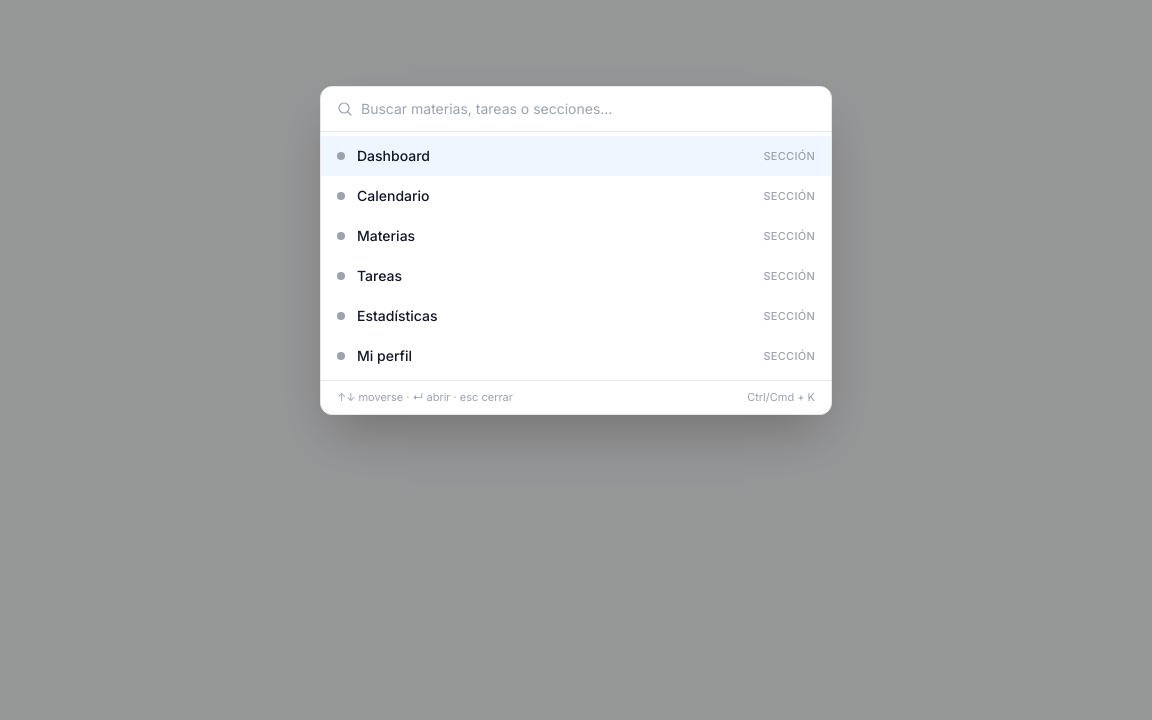
Test: CommandPalette › filtra las secciones por texto
In the field with placeholder "Buscar materias, tareas o secciones...": {"x": 588, "y": 109} [361,87,815,131], type "calen"
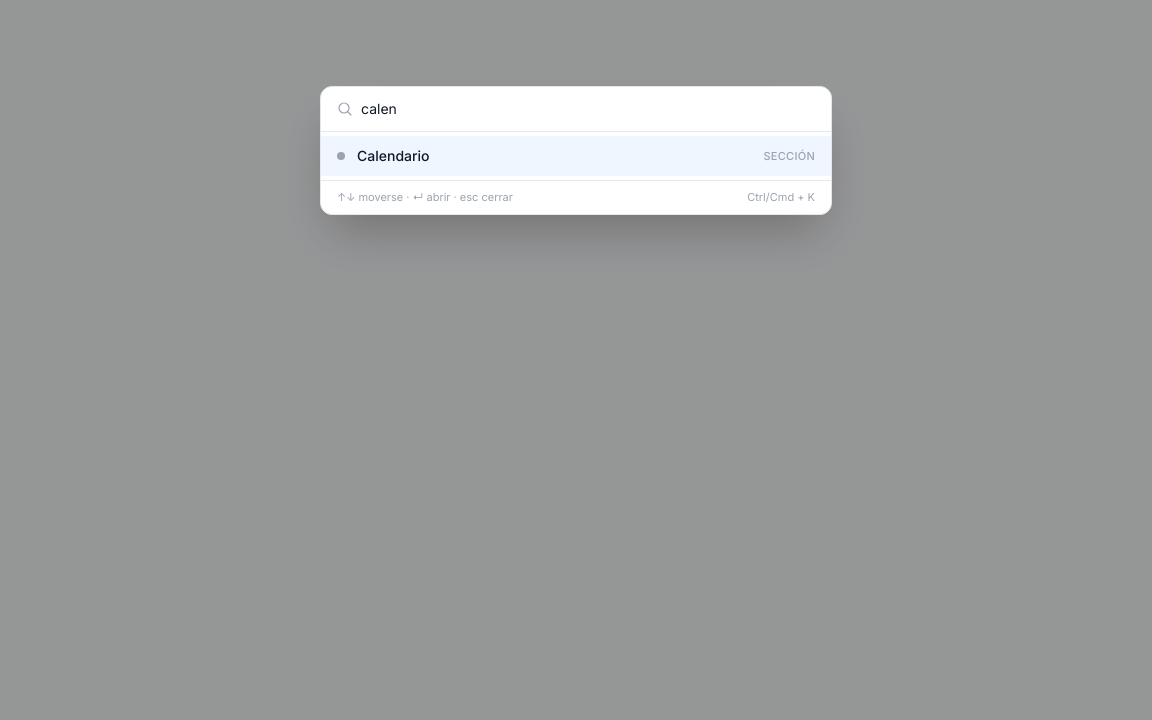
Expected: the text "Calendario" is shown, [357,147,430,164]
Now the button "Dashboard" is gone
